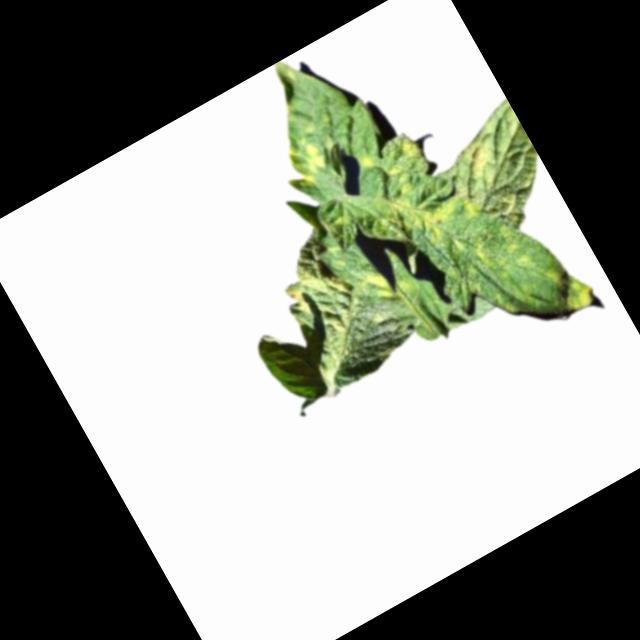Leaf_Mold: (375, 150, 489, 261), (278, 253, 371, 350), (540, 252, 601, 318), (278, 129, 337, 192), (449, 133, 503, 188), (358, 265, 404, 314)
